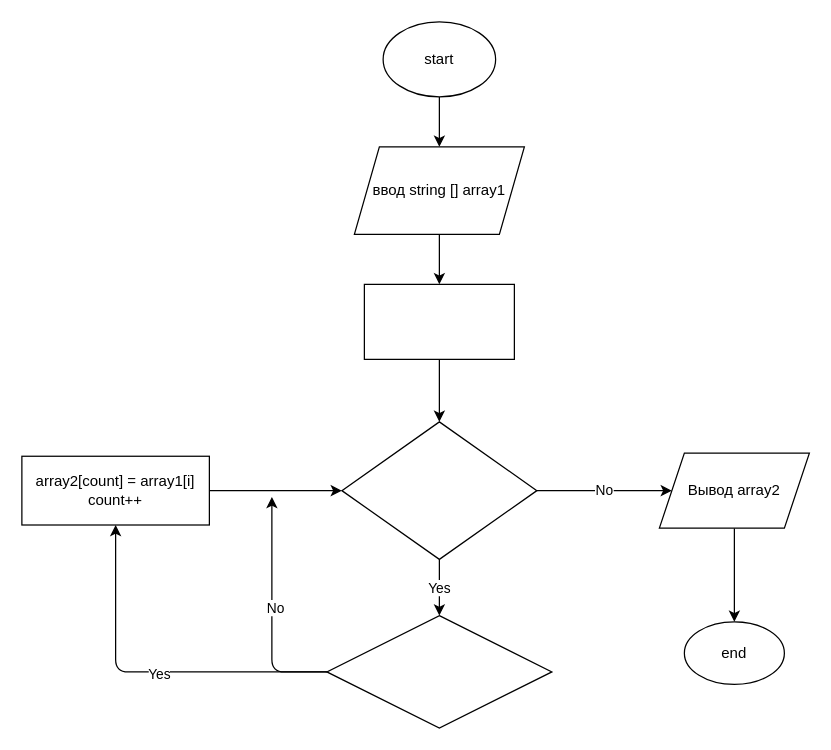
This 831x750 diagram has some shape labels left out. The centre of each missing label's shape, as x and y in pixels:
"for (int i = 0; i < array1.Lenght; i++)" goes at (439,490).
"if (array1[i].Lenght <=3)" goes at (439,671).
"string[] array2 count = 0" goes at (438,321).
